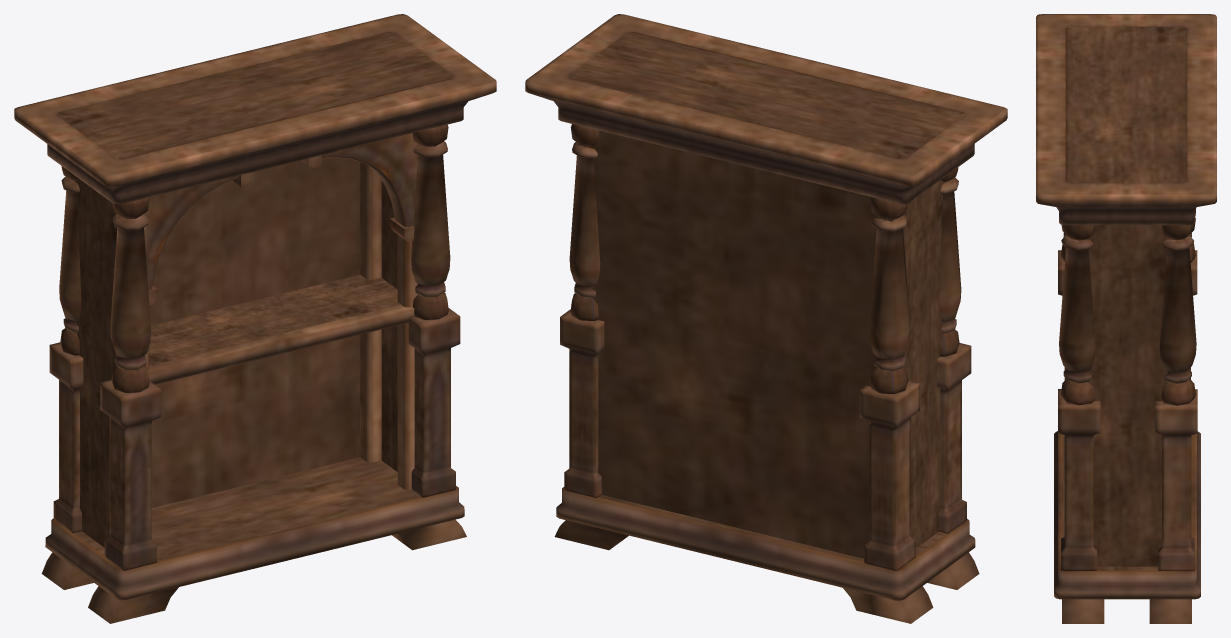
File: t2_cabinet_large_ornamented_wooden.glb
The picture shows the model from 3 angles, left to right: view 1: azimuth 30°, elevation 25°; view 2: azimuth 150°, elevation 25°; view 3: azimuth 270°, elevation 25°; orthographic projection. The views are drawn at different scales.
Parts seen in each view (by area): view 1: castleprops_furniture_shelf_medium_01; view 2: castleprops_furniture_shelf_medium_01; view 3: castleprops_furniture_shelf_medium_01.
Boxes of the visible parts, x1,y1,x2,y2 form: castleprops_furniture_shelf_medium_01: (14, 14, 496, 623); castleprops_furniture_shelf_medium_01: (525, 14, 1007, 623); castleprops_furniture_shelf_medium_01: (1036, 14, 1216, 623).
Size of the model in its own units: 1.92 by 2.15 by 0.807.
1 material, 1 textured.
